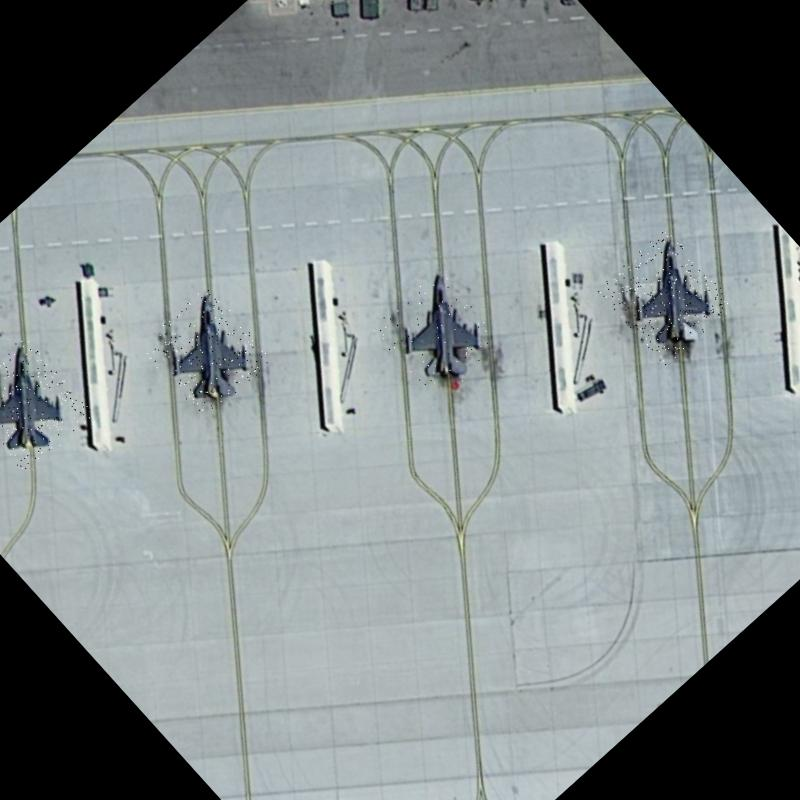A5: (596, 226, 736, 368), (368, 265, 508, 404), (138, 284, 274, 421), (0, 335, 94, 475)
